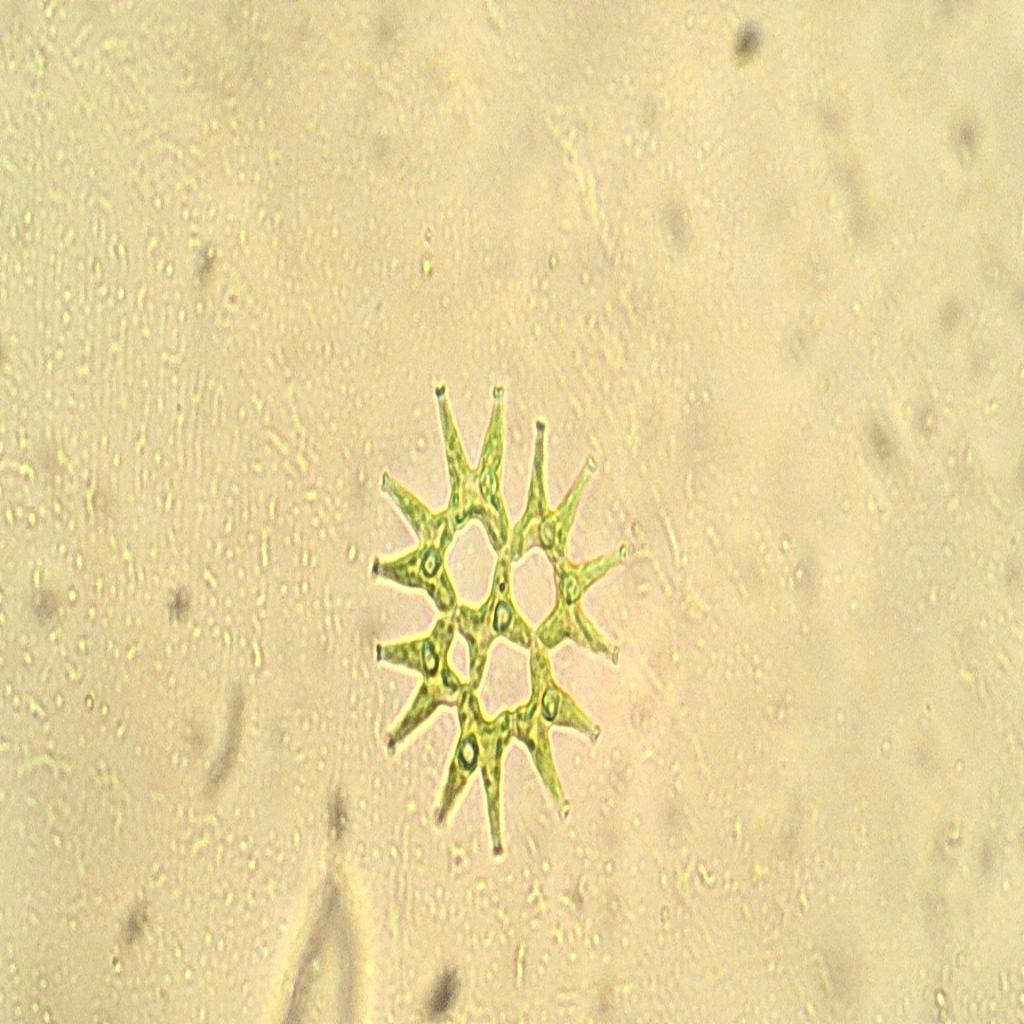Pediastrum_1T: (353, 368, 637, 870)
